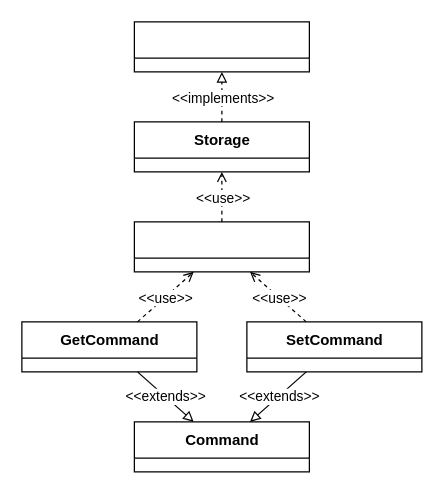
Some shapes in this 444 by 494 pixel diagram are drawn without their labels. The centre of each missing label's shape, as x and y in pixels:
"<<interface>> StorageInterface" belongs at pixel 221 46.
"SecretRepository" belongs at pixel 221 246.
